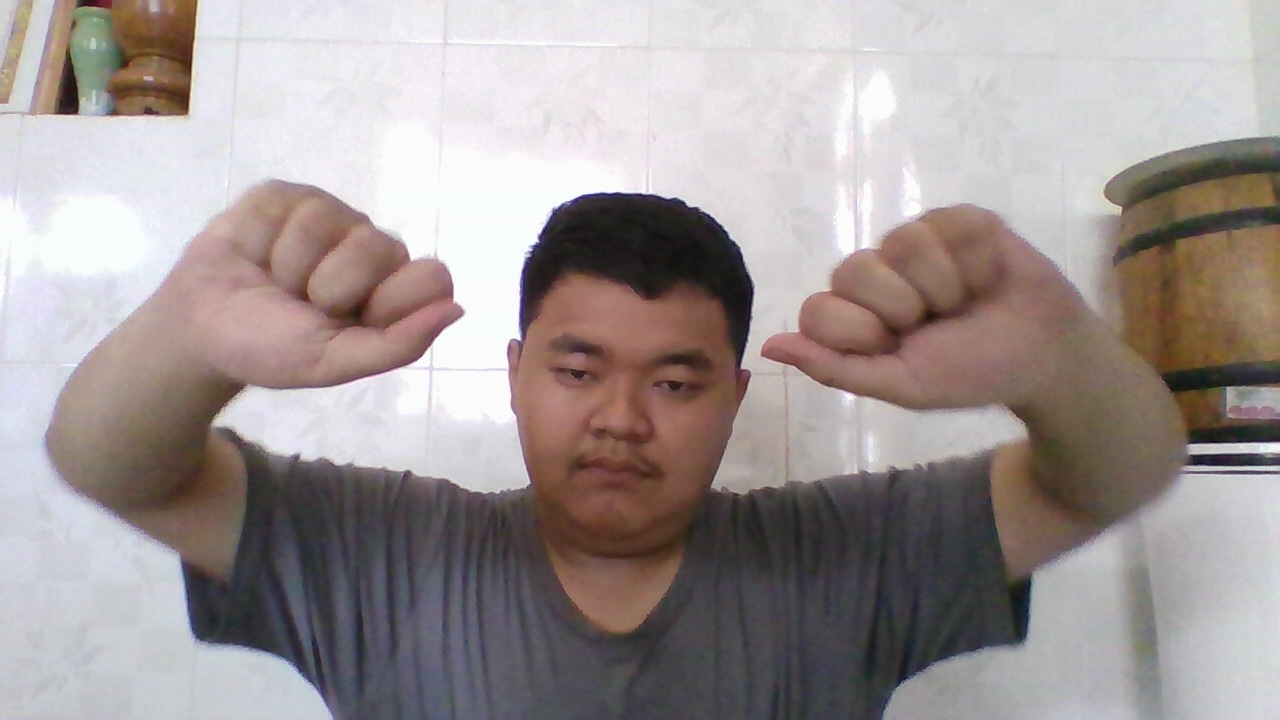A: (761, 214, 1063, 400), (182, 181, 455, 382)
